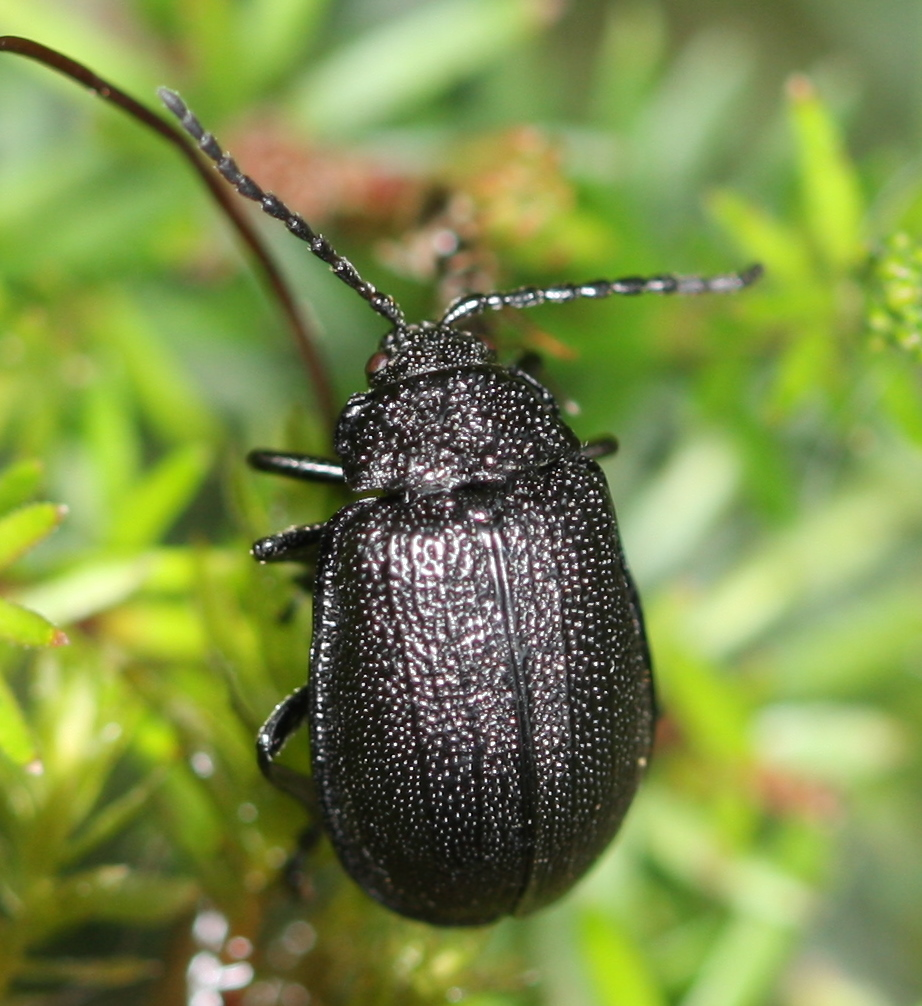Galeruca_tanaceti: (145, 63, 784, 936)
